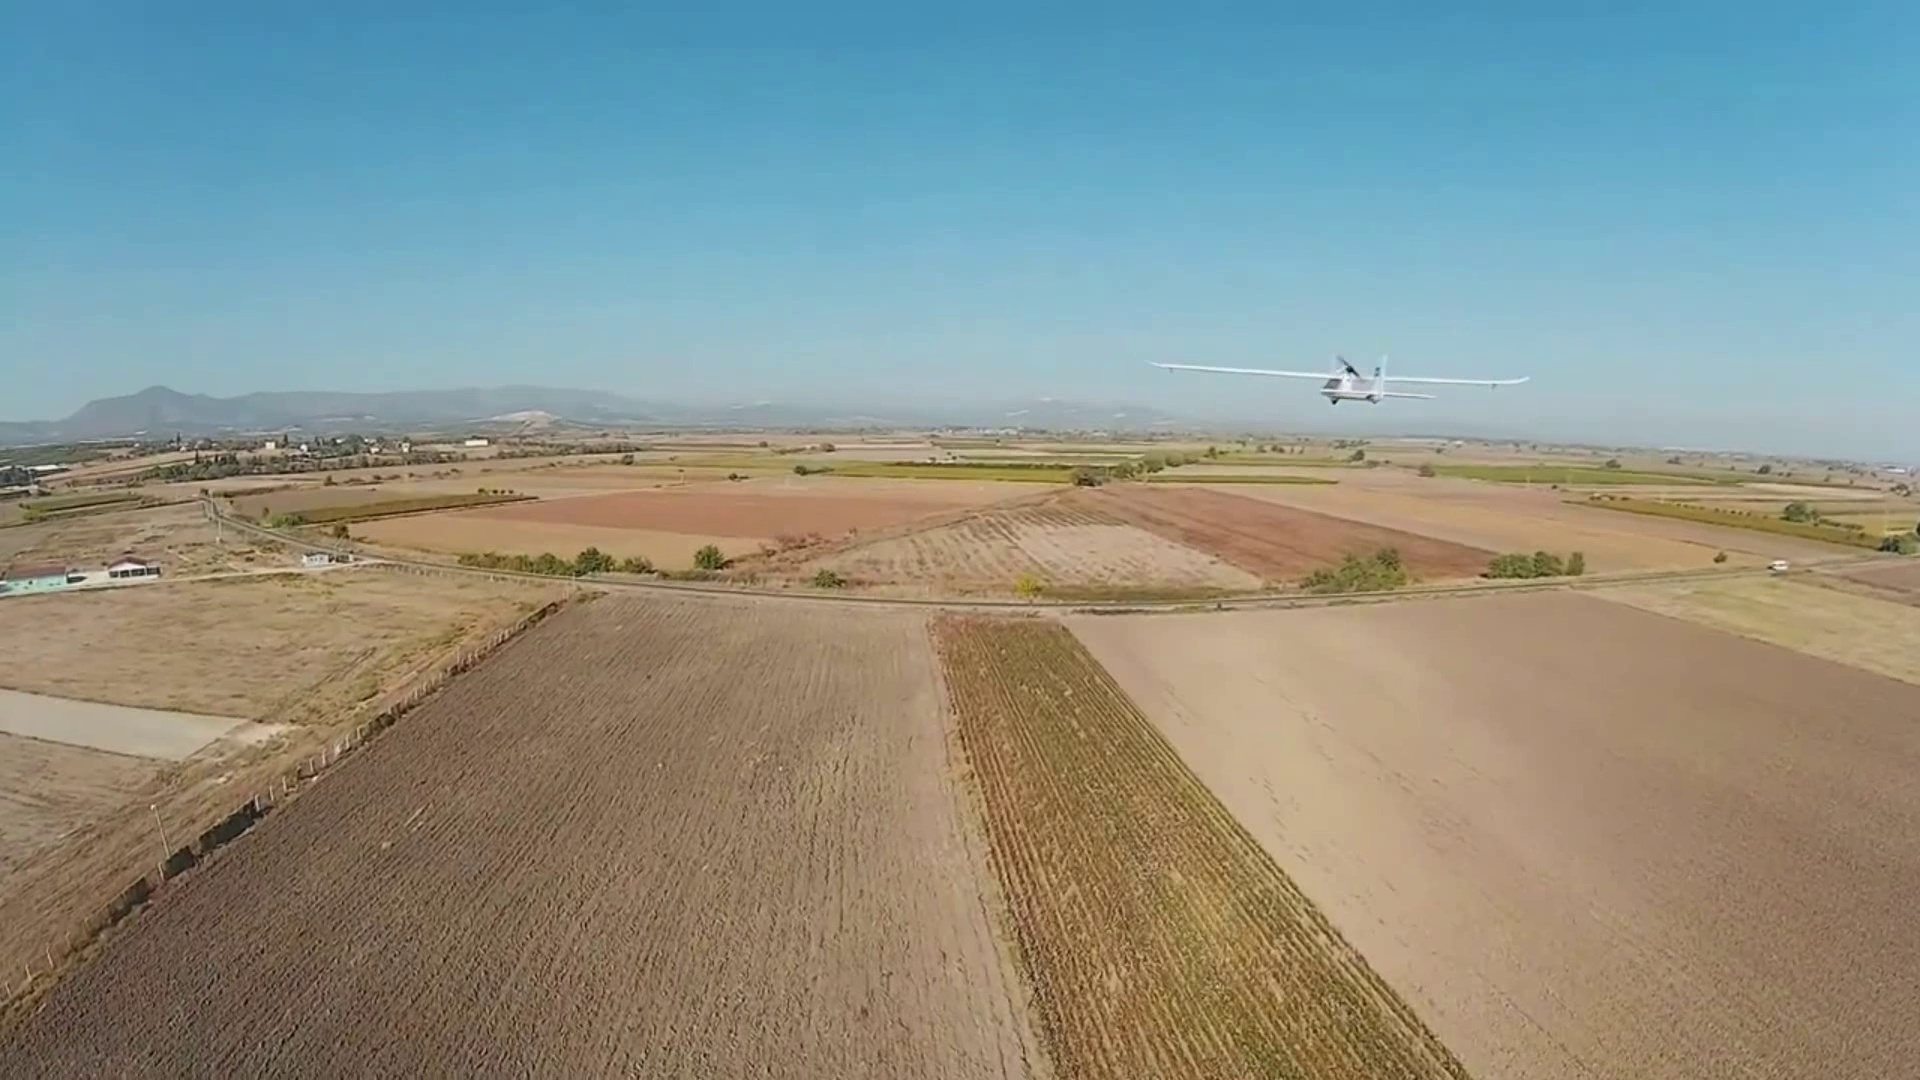airplane: (1149, 352, 1540, 404), (1318, 354, 1531, 405)
